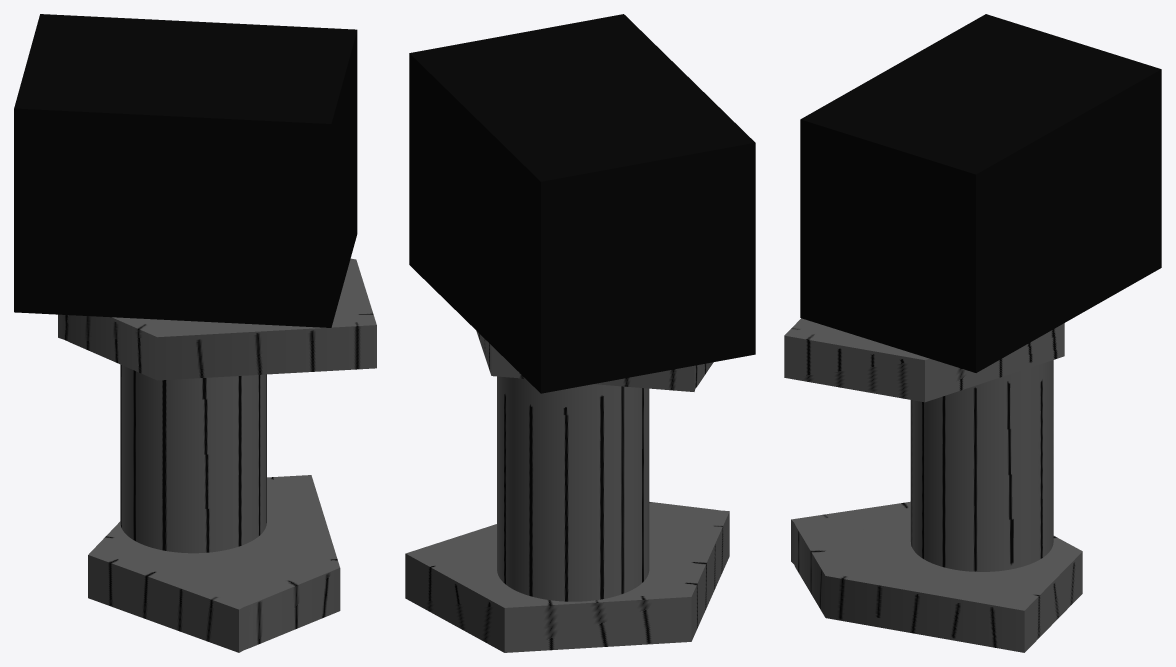
File: pedastal.glb
The picture shows the model from 3 angles, left to right: view 1: azimuth 30°, elevation 25°; view 2: azimuth 150°, elevation 25°; view 3: azimuth 270°, elevation 25°; orthographic projection. The views are drawn at different scales.
Visible parts, largest first — view 1: mesh_id42, mesh_id32, mesh_id26, mesh_id38; view 2: mesh_id42, mesh_id32, mesh_id26, mesh_id38; view 3: mesh_id42, mesh_id32, mesh_id26, mesh_id38.
Boxes of the visible parts, box(x1,y1,x2,y2) form: mesh_id42: box(14, 14, 357, 327); mesh_id32: box(120, 364, 266, 553); mesh_id26: box(88, 475, 340, 652); mesh_id38: box(58, 258, 376, 380); mesh_id42: box(409, 14, 755, 393); mesh_id32: box(497, 376, 649, 601); mesh_id26: box(405, 502, 729, 652); mesh_id38: box(476, 331, 713, 391); mesh_id42: box(800, 14, 1161, 372); mesh_id32: box(910, 360, 1053, 571); mesh_id26: box(791, 501, 1082, 652); mesh_id38: box(784, 318, 1064, 402).
Size of the model in its own units: 0.3361 by 0.4763 by 0.3337.
Materials: 4 (4 with a texture image).
